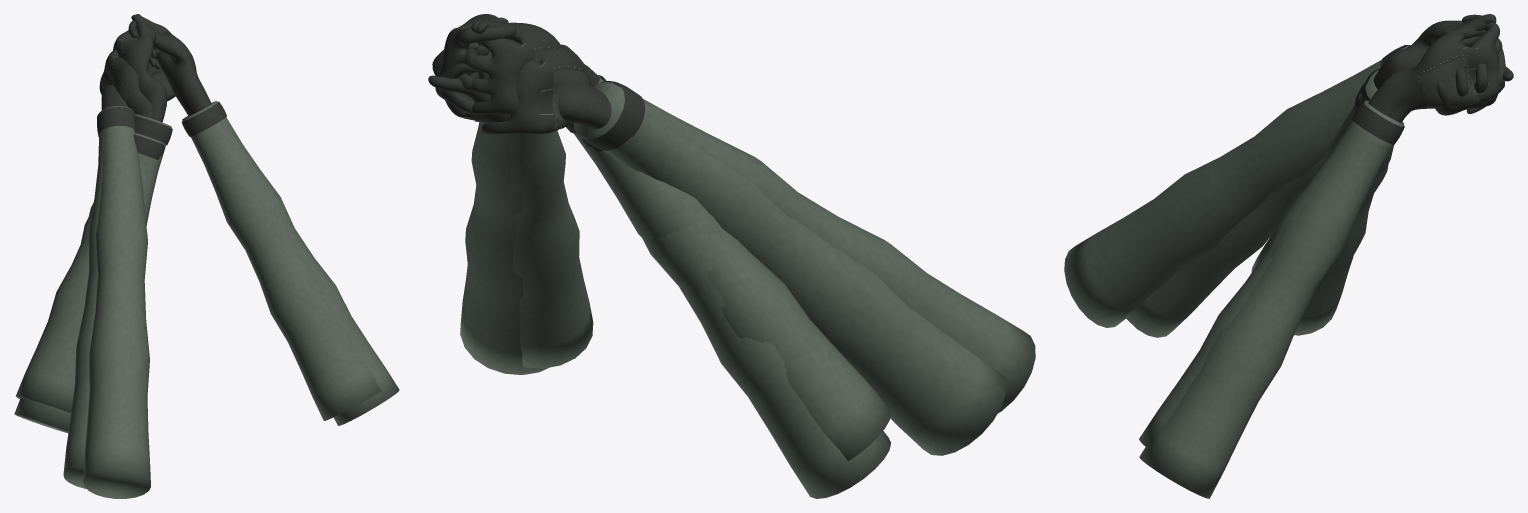
The model's file is vm_hands.glb.
3 renders of one model, left to right at view 1: azimuth 30°, elevation 25°; view 2: azimuth 150°, elevation 25°; view 3: azimuth 270°, elevation 25°, orthographic. The views are drawn at different scales.
Parts seen in each view (by area): view 1: l_fore_h.sleeve, r_pistol.sleeve, l_fore_v.sleeve, l_pump.sleeve, r_rifle.sleeve, r_pistol.glove, l_fore_v.glove, l_cup.glove, l_cup.sleeve, l_fore_h.glove, l_fore_h.cuff, l_fore_v.cuff (+2 smaller); view 2: l_pump.sleeve, l_fore_v.sleeve, l_fore_h.sleeve, l_cup.sleeve, r_pistol.sleeve, r_rifle.sleeve, l_cup.glove, l_fore_v.glove, l_fore_h.glove, r_pistol.glove, l_pump.cuff, l_pump.glove; view 3: r_rifle.sleeve, l_fore_h.sleeve, l_pump.sleeve, r_pistol.glove, r_pistol.sleeve, l_cup.sleeve, l_fore_v.glove, l_fore_h.glove, r_rifle.cuff, l_fore_v.sleeve, r_rifle.glove.
Boxes of the visible parts, x1,y1,x2,y2 form: l_fore_h.sleeve: [83, 105, 150, 498]; r_pistol.sleeve: [182, 103, 381, 420]; l_fore_v.sleeve: [15, 114, 171, 413]; l_pump.sleeve: [63, 110, 103, 488]; r_rifle.sleeve: [211, 101, 399, 425]; r_pistol.glove: [128, 14, 209, 115]; l_fore_v.glove: [113, 14, 166, 122]; l_cup.glove: [99, 37, 156, 118]; l_cup.sleeve: [14, 132, 159, 433]; l_fore_h.glove: [102, 54, 179, 108]; l_fore_h.cuff: [98, 107, 135, 134]; l_fore_v.cuff: [134, 115, 172, 145]; l_pump.sleeve: [574, 93, 1006, 455]; l_fore_v.sleeve: [574, 75, 891, 460]; l_fore_h.sleeve: [592, 82, 1035, 413]; l_cup.sleeve: [642, 214, 890, 498]; r_pistol.sleeve: [510, 130, 593, 368]; r_rifle.sleeve: [460, 122, 549, 374]; l_cup.glove: [478, 39, 599, 134]; l_fore_v.glove: [465, 17, 584, 114]; l_fore_h.glove: [428, 42, 611, 123]; r_pistol.glove: [435, 14, 516, 117]; l_pump.cuff: [573, 81, 641, 150]; l_pump.glove: [570, 99, 611, 129]; r_rifle.sleeve: [1139, 106, 1403, 498]; l_fore_h.sleeve: [1064, 45, 1409, 327]; l_pump.sleeve: [1125, 156, 1325, 337]; r_pistol.glove: [1368, 14, 1504, 112]; r_pistol.sleeve: [1139, 100, 1403, 449]; l_cup.sleeve: [1294, 84, 1388, 335]; l_fore_v.glove: [1373, 15, 1502, 88]; l_fore_h.glove: [1435, 49, 1513, 115]; r_rifle.cuff: [1352, 101, 1404, 144]; l_fore_v.sleeve: [1251, 70, 1393, 272]; r_rifle.glove: [1369, 84, 1409, 122].
Size of the model in its own units: 0.4959 by 0.4716 by 0.4565.
5 materials, 5 textured.
